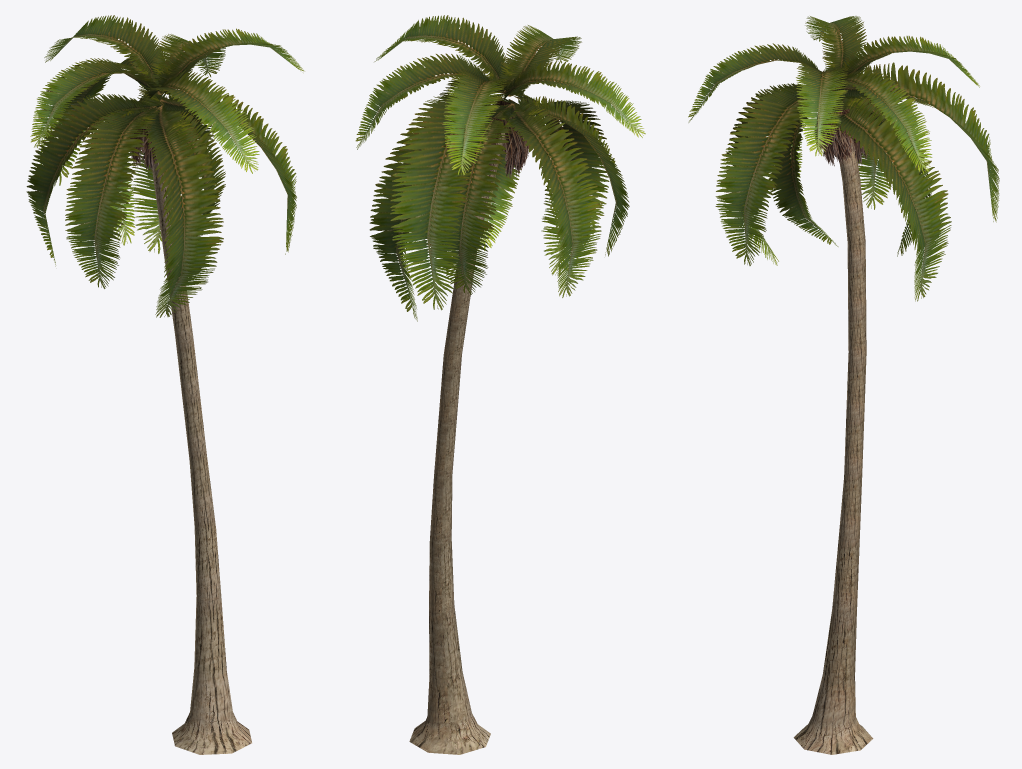
The model's file is PBC_Palms_Pack_Plam_02.fbx.
The picture shows the model from 3 angles, left to right: view 1: azimuth 30°, elevation 25°; view 2: azimuth 150°, elevation 25°; view 3: azimuth 270°, elevation 25°; orthographic projection. The views are drawn at different scales.
Visible parts, largest first — view 1: PBC_Palms_Pack_Palm_02; view 2: PBC_Palms_Pack_Palm_02; view 3: PBC_Palms_Pack_Palm_02.
Boxes of the visible parts, left/top/right/bottom form: PBC_Palms_Pack_Palm_02: left=26, top=15, right=304, bottom=754; PBC_Palms_Pack_Palm_02: left=355, top=15, right=645, bottom=754; PBC_Palms_Pack_Palm_02: left=688, top=16, right=999, bottom=754.
Bounding box in the file's own units: 10.63 × 26.18 × 11.53.
